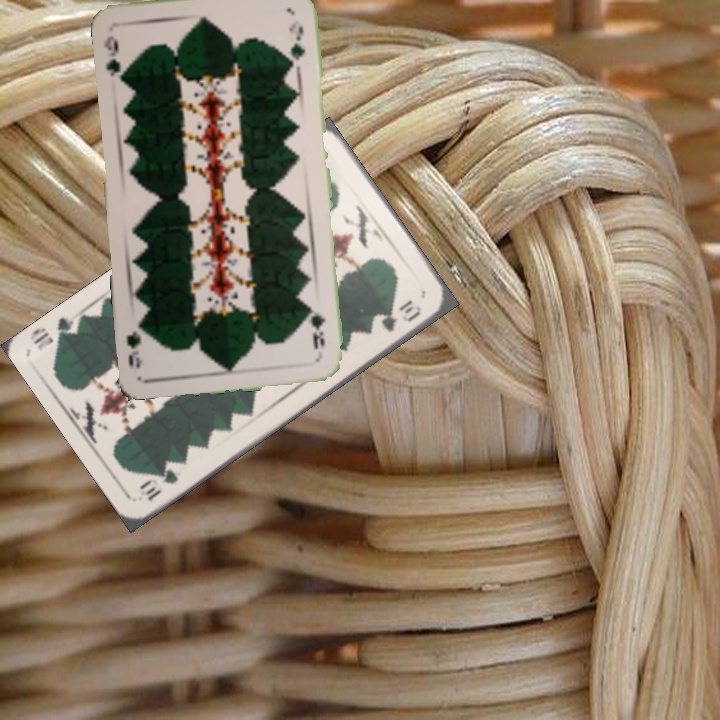G10: (135, 465, 181, 504)
G9: (100, 32, 128, 83), (305, 303, 328, 353)
